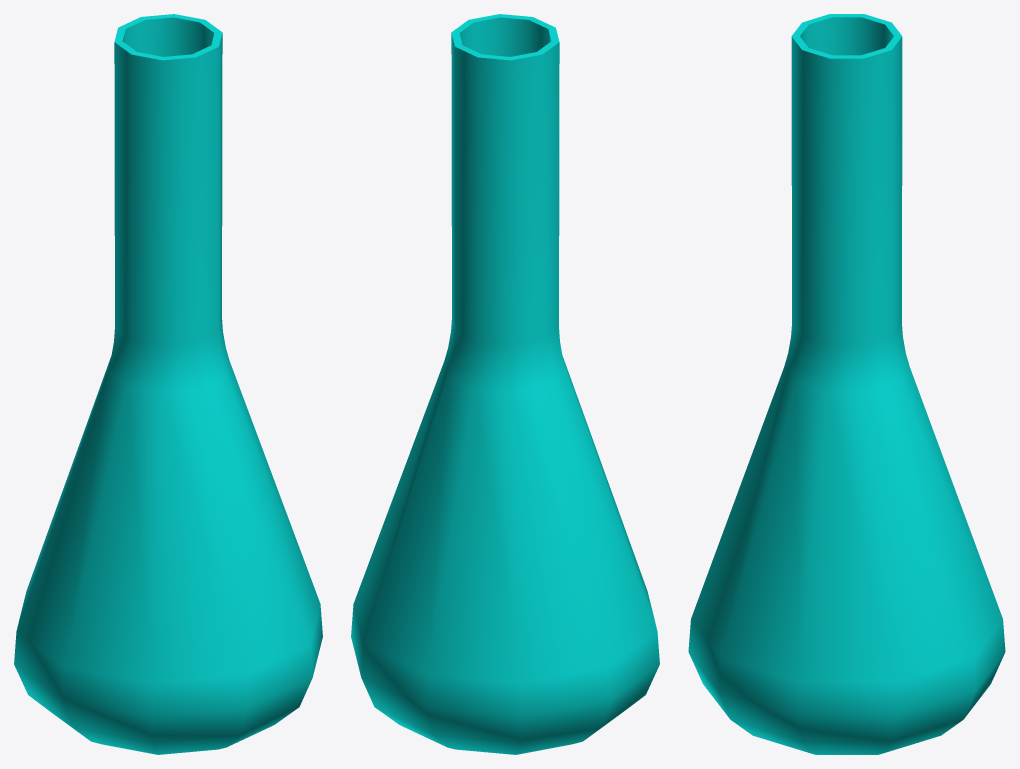
The model's file is Beaker5.fbx.
3 views of the same model, side by side, from view 1: azimuth 30°, elevation 25°; view 2: azimuth 150°, elevation 25°; view 3: azimuth 270°, elevation 25° (orthographic).
Visible parts, largest first — view 1: Cylinder.124; view 2: Cylinder.124; view 3: Cylinder.124.
Part boxes in pixels (left/top/right/bottom): Cylinder.124: left=14, top=14, right=322, bottom=754; Cylinder.124: left=351, top=14, right=659, bottom=754; Cylinder.124: left=688, top=14, right=1005, bottom=754.
Bounding box in the file's own units: 0.1481 × 0.3677 × 0.1558.
